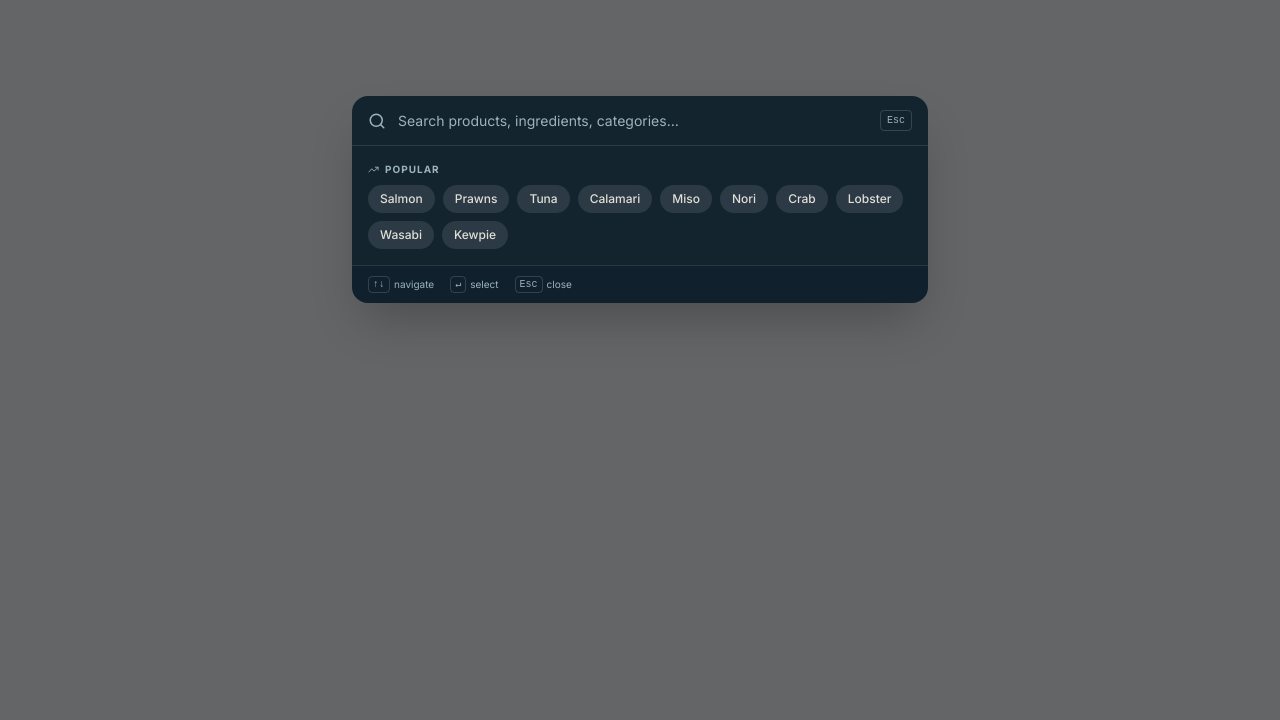
Test case: GlobalSearch › shows a "no results" state with fallback popular chips
Type "xyz" into the search field with placeholder "Search products, ingredients, categories…". click: {"x": 633, "y": 120}
box: top-left (398, 110), bottom-right (868, 130)
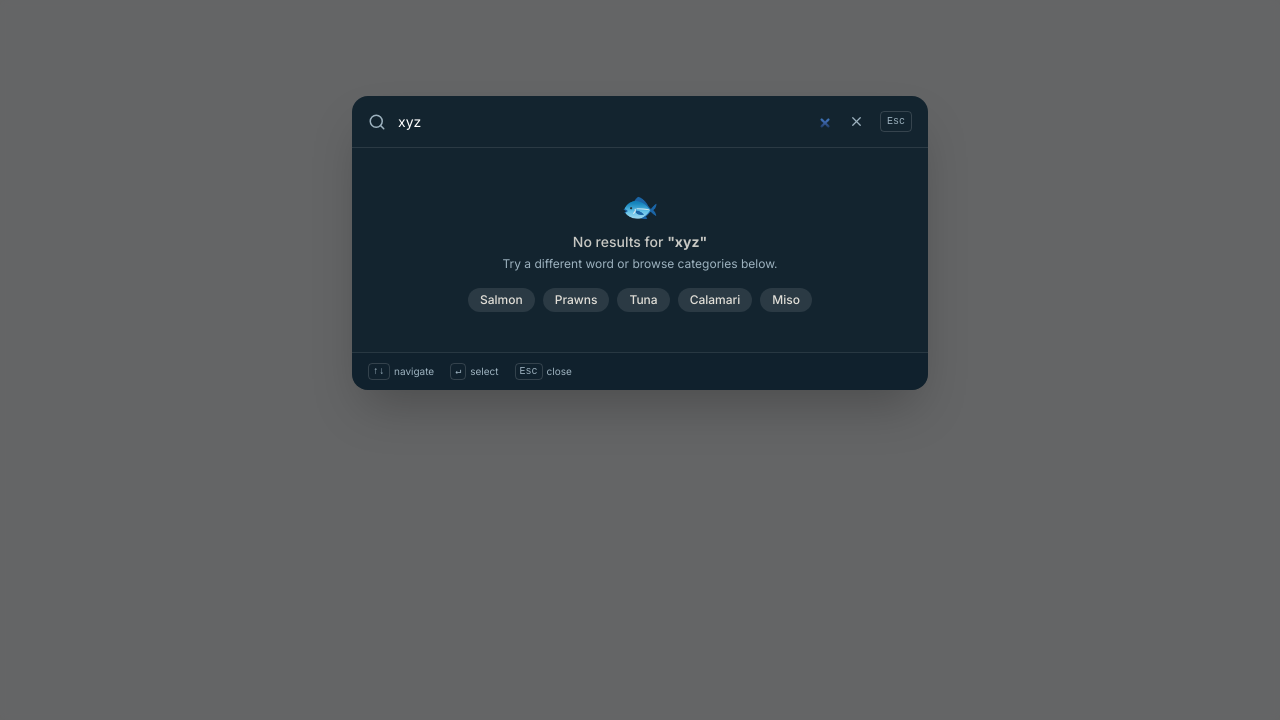
Expected: the text "No results for" is shown, top-left (573, 233), bottom-right (667, 250)
